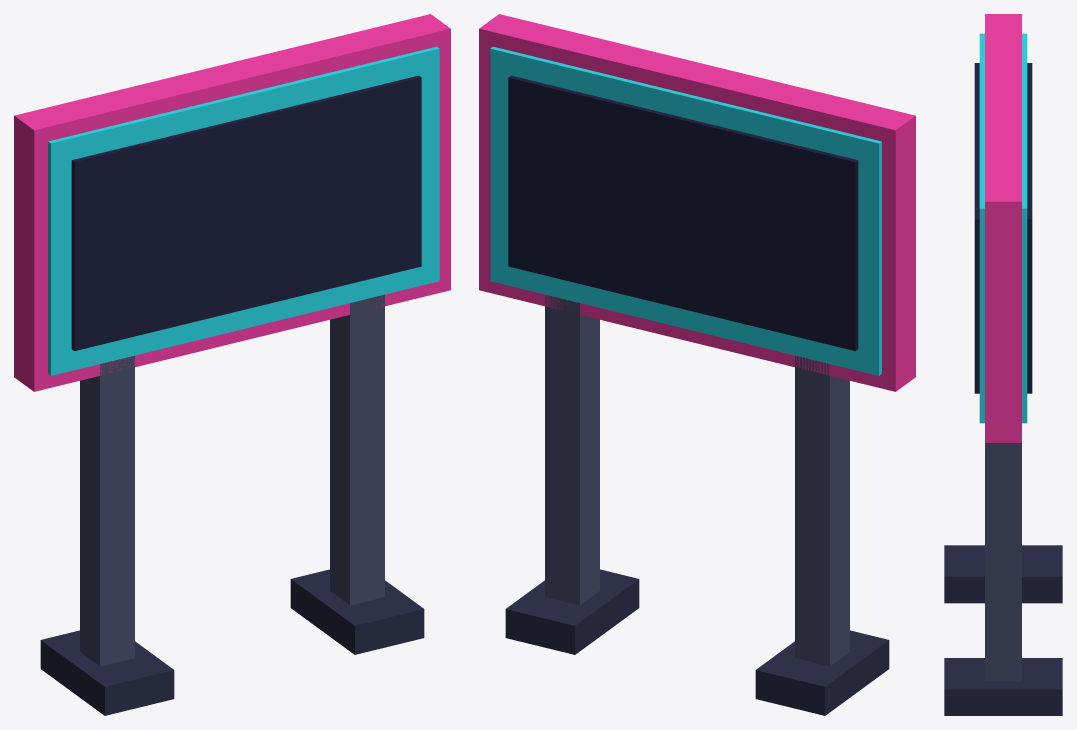
File: env_r8_giant_billboard.glb
3 views of the same model, side by side, from view 1: azimuth 30°, elevation 25°; view 2: azimuth 150°, elevation 25°; view 3: azimuth 270°, elevation 25° (orthographic). The views are drawn at different scales.
Parts seen in each view (by area): view 1: env_r8_giant_billboard; view 2: env_r8_giant_billboard; view 3: env_r8_giant_billboard.
Boxes of the visible parts, x1=… form: env_r8_giant_billboard: x1=14, y1=14, x2=450, y2=715; env_r8_giant_billboard: x1=479, y1=14, x2=915, y2=715; env_r8_giant_billboard: x1=944, y1=14, x2=1062, y2=715.
Bounding box in the file's own units: 6 × 8 × 1.6.
Materials: 1 (1 with a texture image).
